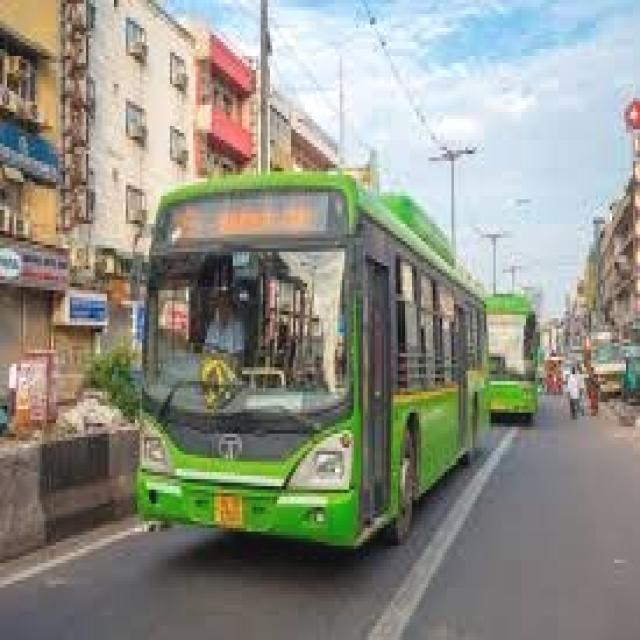bus: (122, 136, 495, 585), (487, 265, 552, 440)
